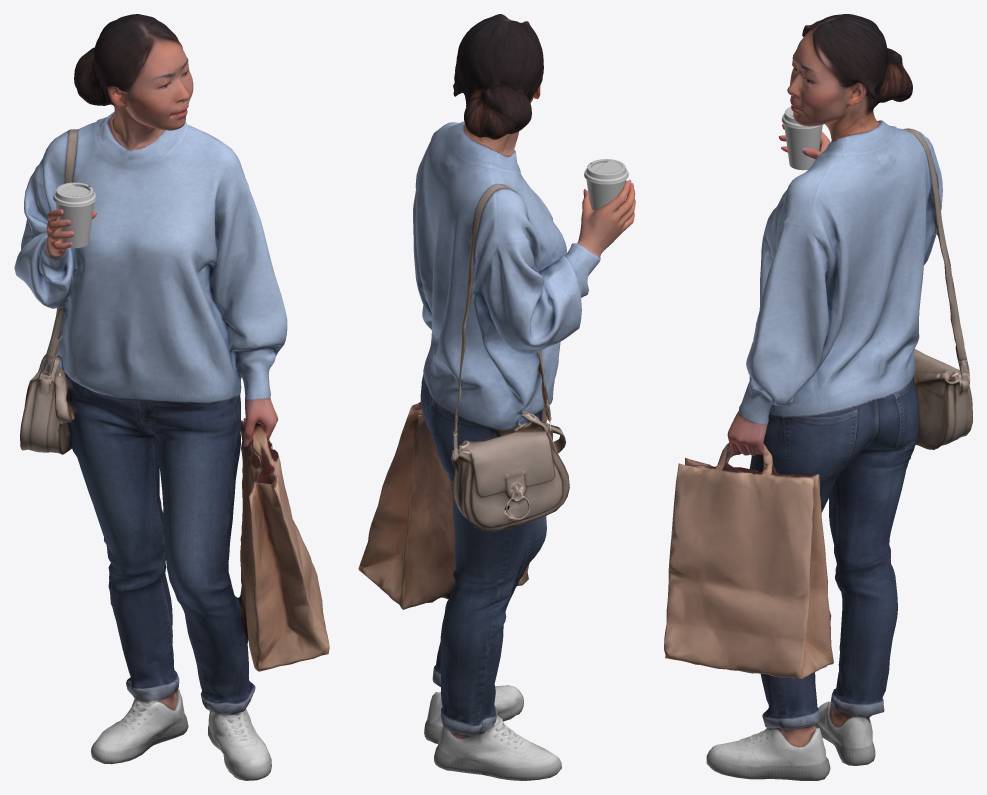
File: Humano_Posed_0835341-Woman_01_LOD1.fbx
3 views of the same model, side by side, from view 1: azimuth 30°, elevation 25°; view 2: azimuth 150°, elevation 25°; view 3: azimuth 270°, elevation 25° (orthographic). The views are drawn at different scales.
Parts seen in each view (by area): view 1: Humano_Posed_0835341-Woman_01_LOD1, Humano_Posed_0835341-Woman_Accessories-01_01_LOD1; view 2: Humano_Posed_0835341-Woman_01_LOD1, Humano_Posed_0835341-Woman_Accessories-01_01_LOD1; view 3: Humano_Posed_0835341-Woman_01_LOD1, Humano_Posed_0835341-Woman_Accessories-01_01_LOD1.
Boxes of the visible parts, left/top/right/bottom form: Humano_Posed_0835341-Woman_01_LOD1: left=14, top=14, right=329, bottom=780; Humano_Posed_0835341-Woman_Accessories-01_01_LOD1: left=53, top=182, right=96, bottom=248; Humano_Posed_0835341-Woman_01_LOD1: left=358, top=14, right=635, bottom=780; Humano_Posed_0835341-Woman_Accessories-01_01_LOD1: left=584, top=159, right=628, bottom=210; Humano_Posed_0835341-Woman_01_LOD1: left=664, top=14, right=972, bottom=780; Humano_Posed_0835341-Woman_Accessories-01_01_LOD1: left=782, top=106, right=822, bottom=170.
Bounding box in the file's own units: 63.07 × 164 × 63.38.
